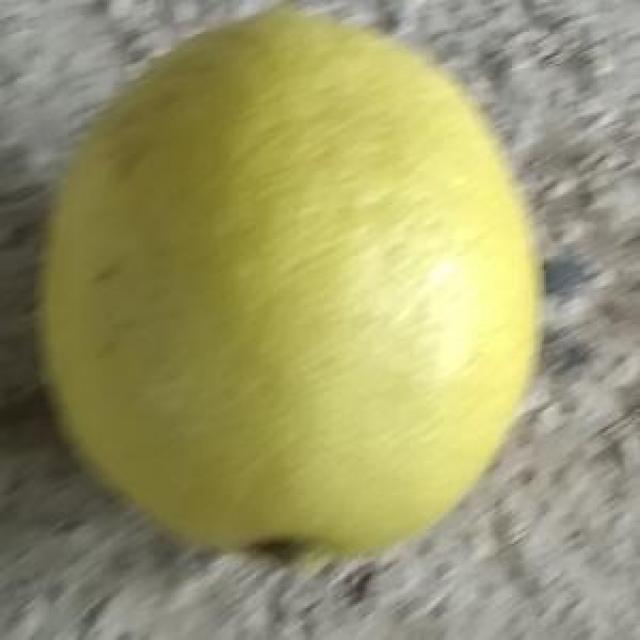lemon: (38, 12, 546, 581)
